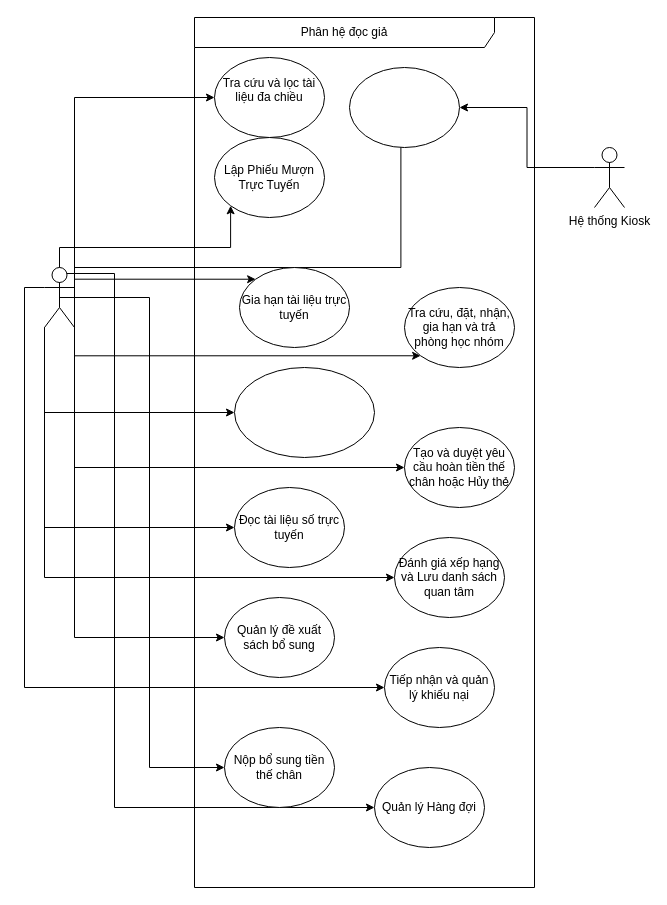
This 667x905 diagram has some shape labels left out. The box of each missing label's shape, as (x1, y1, x2, y2) in pixels:
Lập Phiếu Mượn Tự Động Tại Kiosk: (348, 66, 460, 148)
Xử lý thanh toán khoản phạt trực tuyến hoặc tiền mặt: (234, 366, 374, 458)
Đọc giả: (44, 266, 74, 328)
